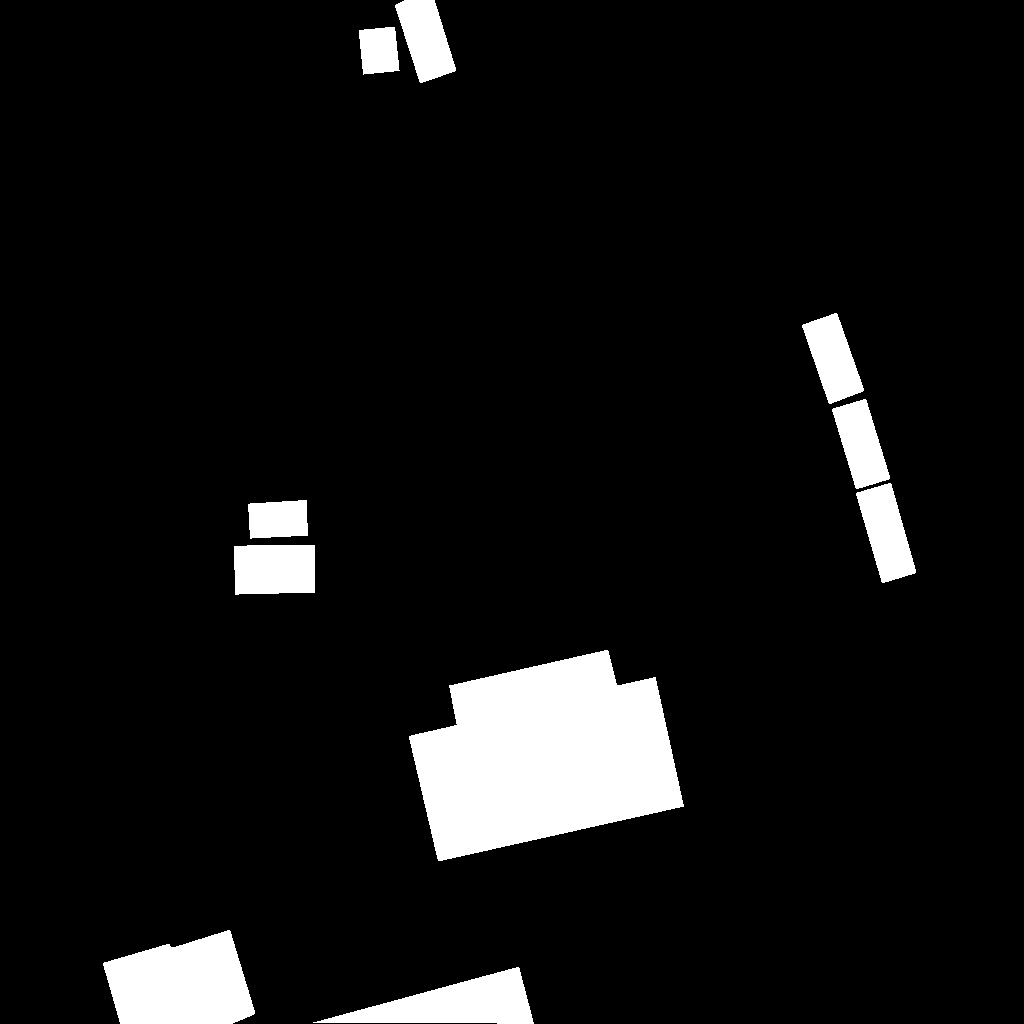building: (409, 650, 685, 862), (103, 930, 256, 1024), (312, 967, 535, 1024), (856, 483, 917, 584), (802, 313, 865, 405), (832, 399, 891, 490), (395, 0, 457, 84), (234, 545, 316, 595), (248, 500, 309, 539), (359, 27, 400, 75)
